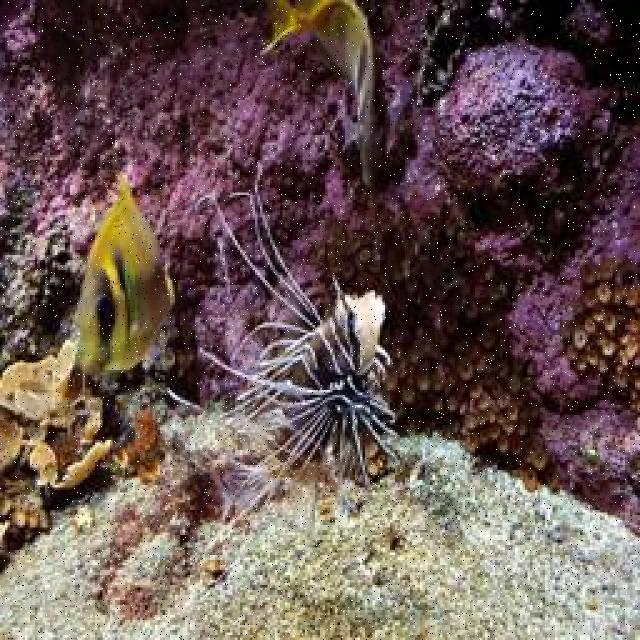fish: (199, 187, 400, 500), (257, 1, 376, 192), (66, 175, 176, 370)
reefs: (364, 261, 550, 468), (0, 340, 118, 555), (558, 259, 638, 400)
